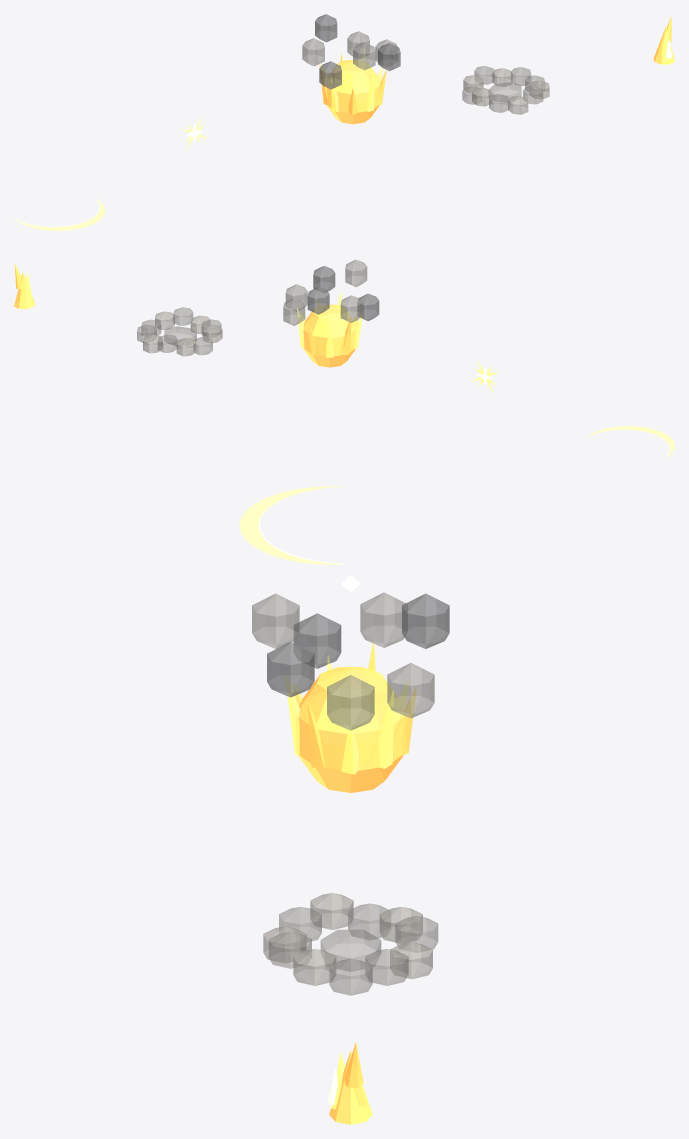
File: efectos.glb
3 views of the same model, one above another, from view 1: azimuth 30°, elevation 25°; view 2: azimuth 150°, elevation 25°; view 3: azimuth 270°, elevation 25° (orthographic). The views are drawn at different scales.
Visible parts, largest first — view 1: explosion, polvo, llama, corte; view 2: explosion, polvo, llama, corte; view 3: explosion, polvo, llama, corte.
Boxes of the visible parts, x1,y1,x2,y2 form: explosion: [302, 14, 400, 124]; polvo: [462, 66, 549, 114]; llama: [653, 17, 674, 64]; corte: [14, 199, 105, 230]; explosion: [283, 259, 379, 367]; polvo: [137, 307, 222, 356]; llama: [14, 264, 34, 308]; corte: [586, 426, 674, 457]; explosion: [252, 592, 449, 792]; polvo: [263, 893, 438, 995]; llama: [328, 1043, 372, 1124]; corte: [239, 486, 342, 564].
Size of the model in its own units: 11.7 by 1.9 by 1.64.
